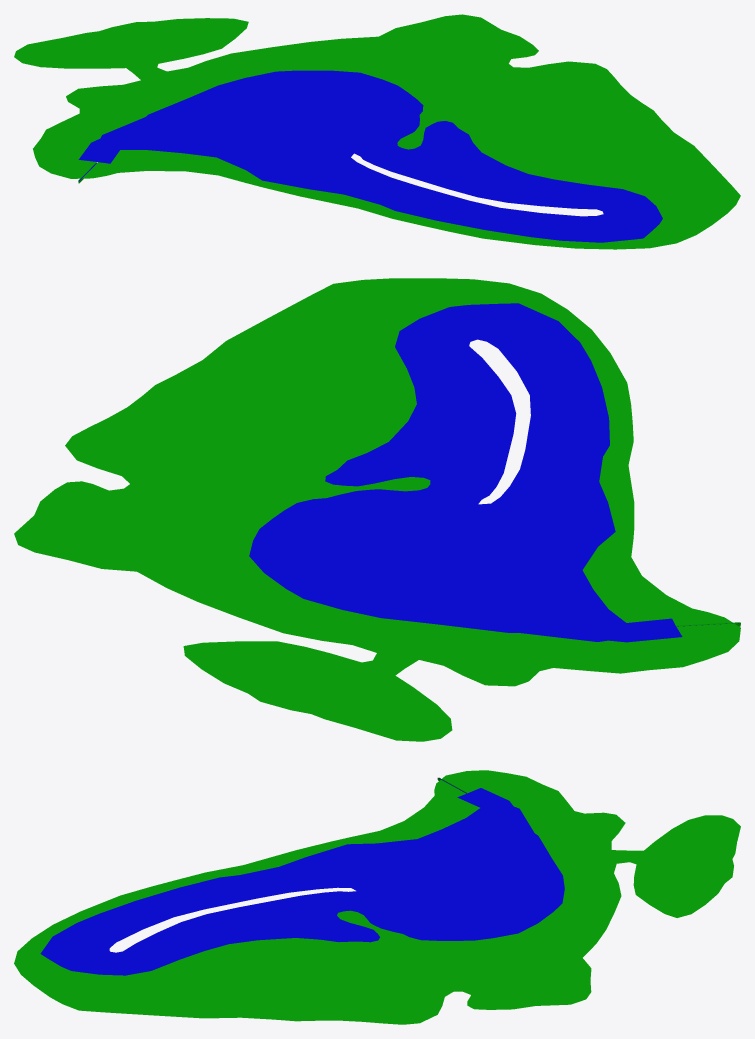
The model's file is stong.dae.
3 views of the same model, one above another, from view 1: azimuth 30°, elevation 25°; view 2: azimuth 150°, elevation 25°; view 3: azimuth 270°, elevation 25° (orthographic). The views are drawn at different scales.
Visible parts, largest first — view 1: SurfaceArea86, Water Stong Pond; view 2: SurfaceArea86, Water Stong Pond; view 3: SurfaceArea86, Water Stong Pond.
Boxes of the visible parts, x1=… form: SurfaceArea86: x1=14, y1=14, x2=740, y2=249; Water Stong Pond: x1=78, y1=70, x2=662, y2=242; SurfaceArea86: x1=14, y1=278, x2=740, y2=741; Water Stong Pond: x1=249, y1=303, x2=682, y2=642; SurfaceArea86: x1=14, y1=770, x2=740, y2=1024; Water Stong Pond: x1=40, y1=788, x2=564, y2=975.
Bounding box in the file's own units: 193 × 233 × 1.
